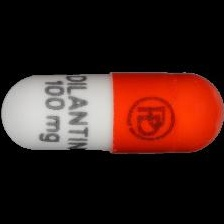55154-2429: (0, 0, 224, 224)
